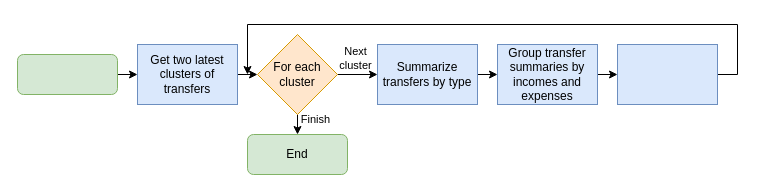
This 763x192 diagram has some shape labels left out. The shapes that lost their labels are listed below. From the top down, each one's box as (x1, y1, x2, y2) in pixels, then its label:
(16, 54, 118, 94): Start
(616, 44, 718, 104): Calculate budget
